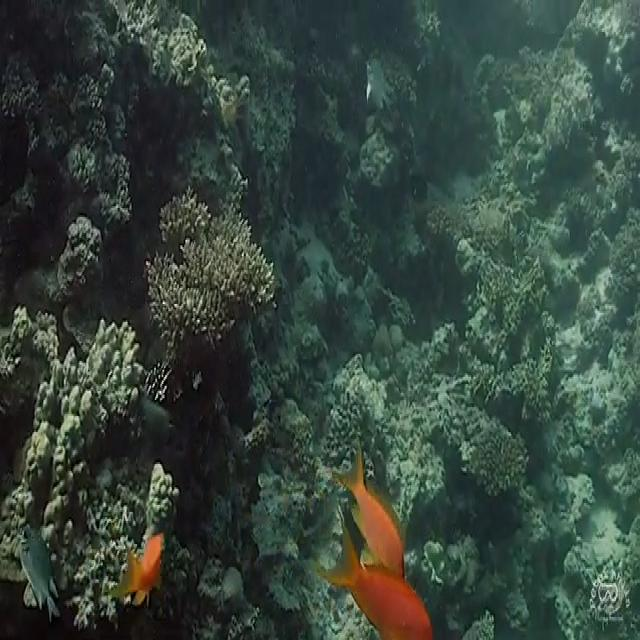Sea Goldie: (333, 526, 431, 640), (336, 448, 406, 578), (124, 532, 165, 603)
